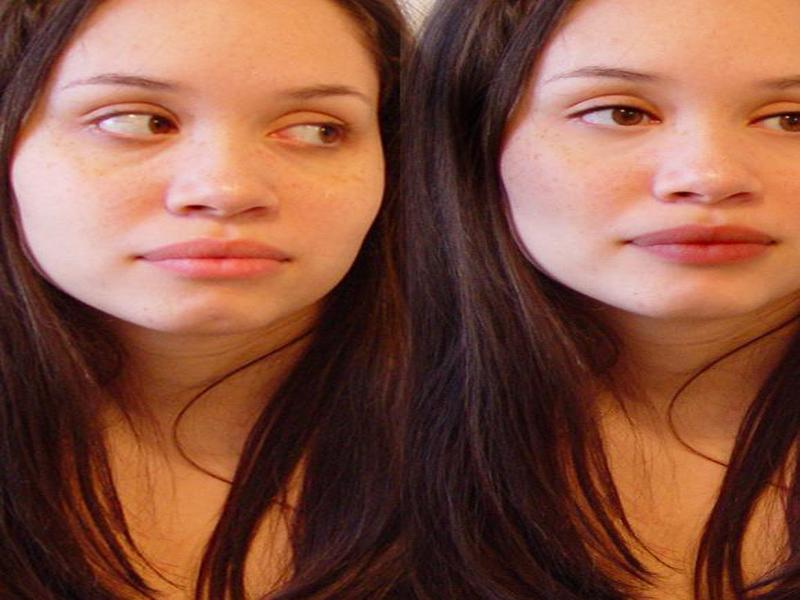person: (1, 1, 463, 600), (426, 4, 800, 599)
